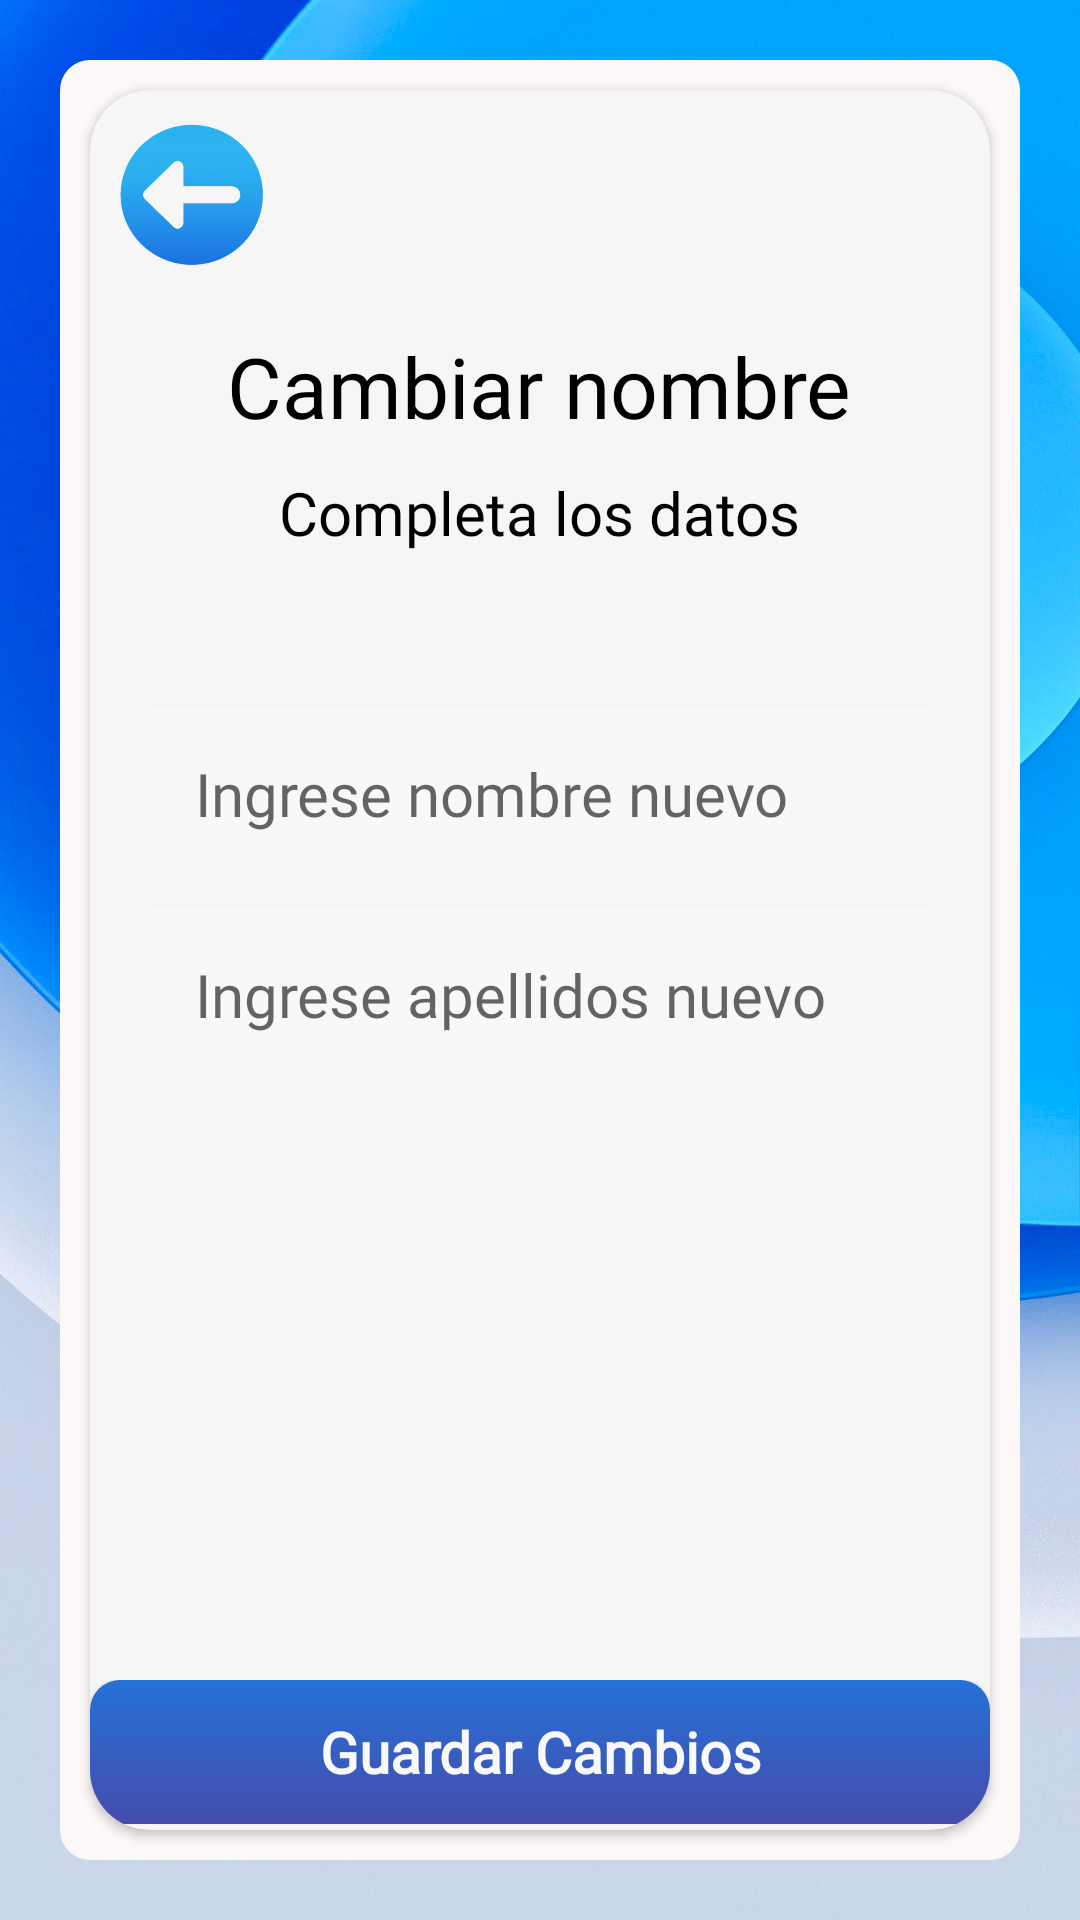

Screen size 1080px×1920px. Icon name, then its box in pixels as detection(x1, y1, x2, y2):
arrow left: detection(120, 124, 263, 265)
